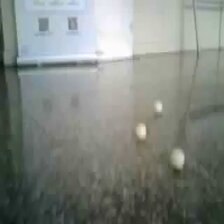tennis: (172, 94, 190, 120), (48, 58, 61, 76), (111, 69, 123, 86), (126, 54, 135, 67)
